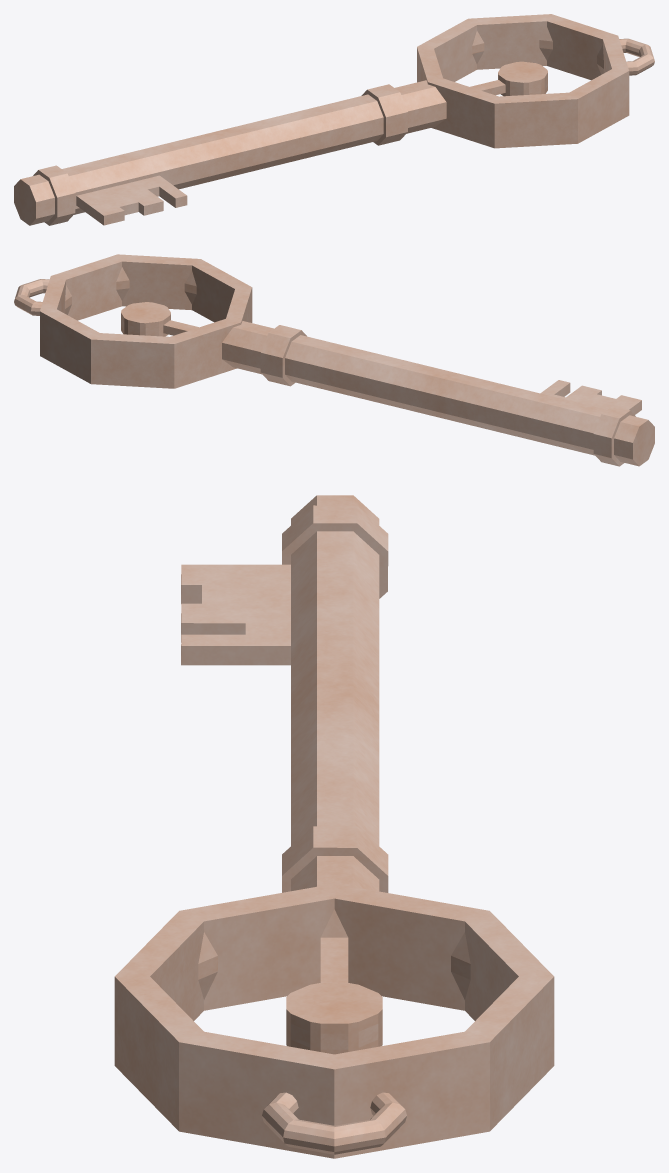
File: Key1.fbx
3 views of the same model, one above another, from view 1: azimuth 30°, elevation 25°; view 2: azimuth 150°, elevation 25°; view 3: azimuth 270°, elevation 25° (orthographic). The views are drawn at different scales.
Parts seen in each view (by area): view 1: Key1; view 2: Key1; view 3: Key1.
Part boxes in pixels (x1=…): Key1: x1=14, y1=14, x2=654, y2=225; Key1: x1=14, y1=254, x2=654, y2=466; Key1: x1=114, y1=495, x2=554, y2=1158.
Size of the model in its own units: 63.25 by 4.65 by 19.22.
